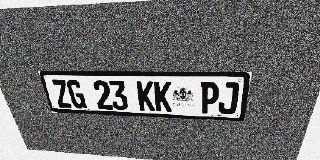2: (92, 80, 113, 110)
3: (108, 80, 128, 110)
G: (65, 80, 87, 108)
J: (218, 82, 240, 115)
K: (136, 81, 155, 111), (154, 81, 172, 112)
P: (200, 82, 220, 114)
Z: (51, 80, 73, 108)
